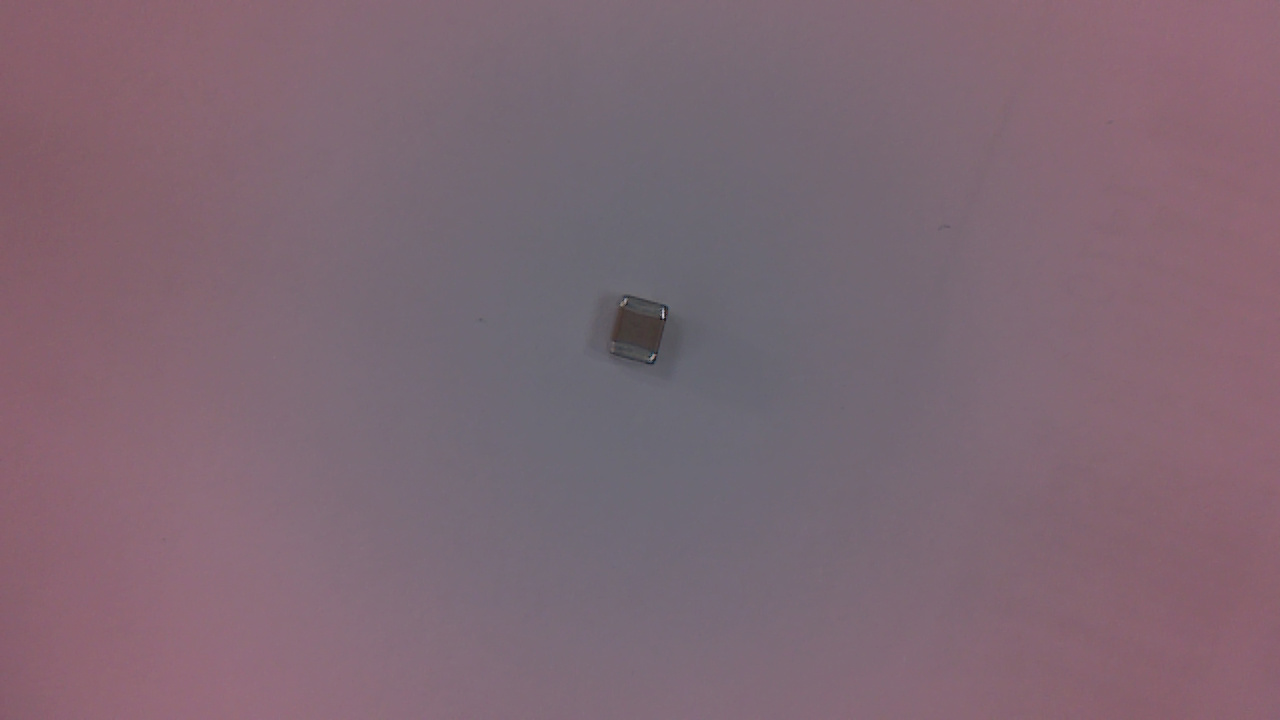Condensator: (613, 297, 675, 376)
